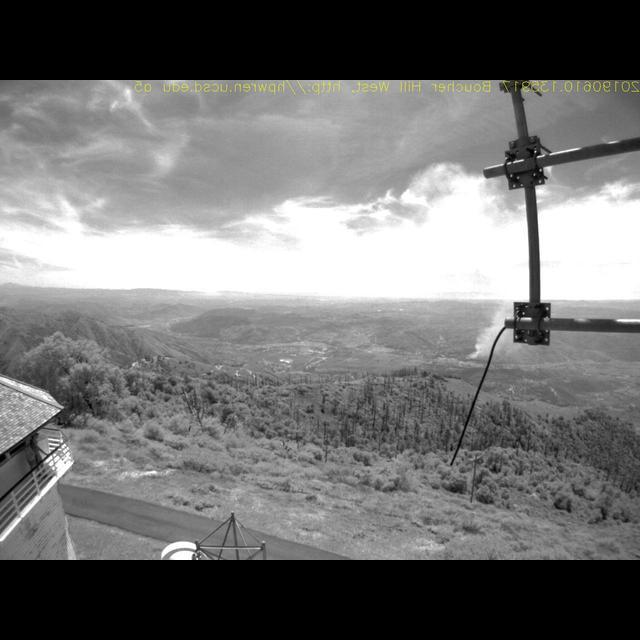Smoke: (470, 298, 511, 362)
